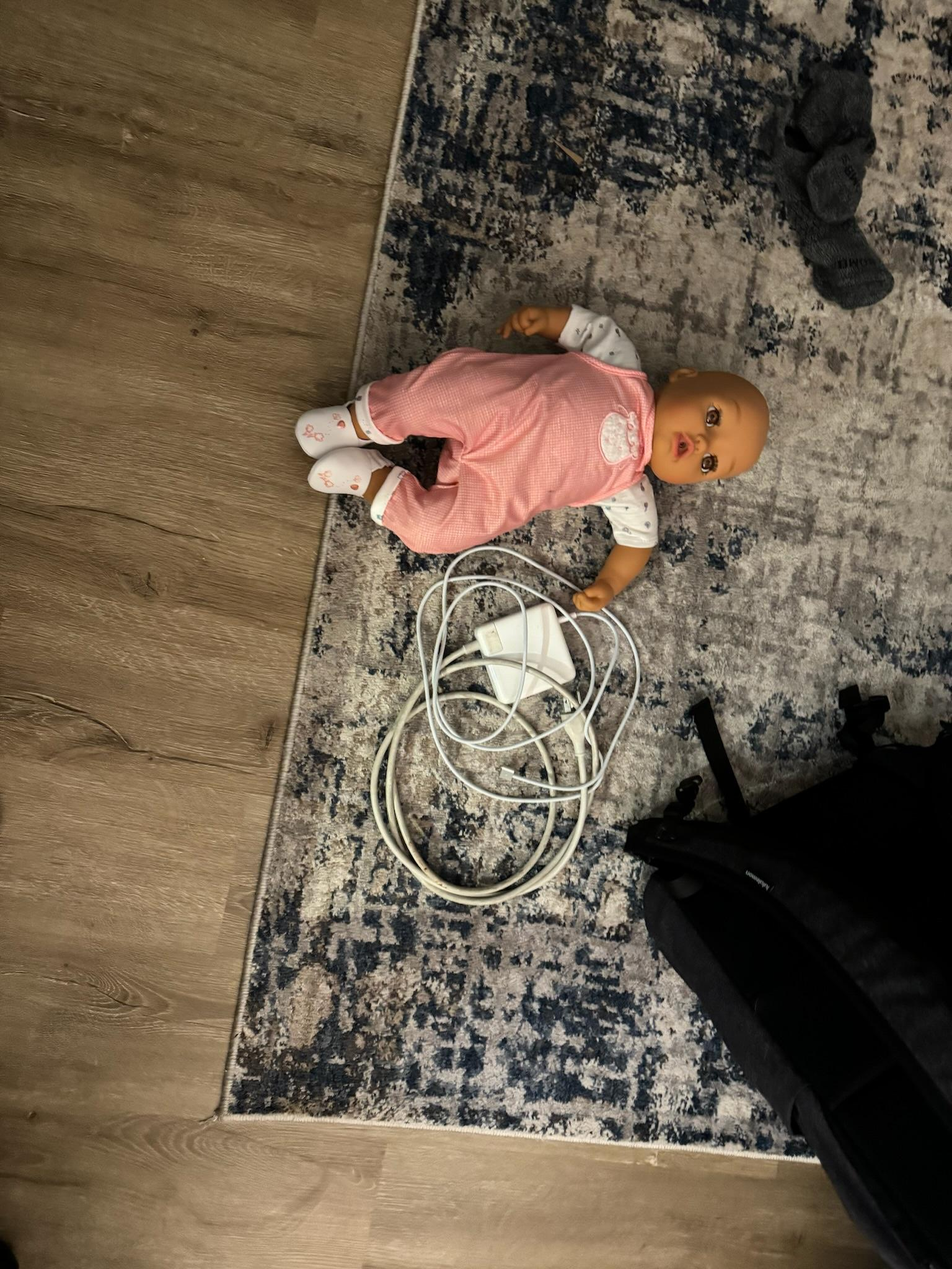baby: (262, 299, 824, 568)
